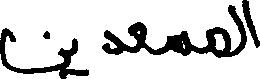X: (0, 23, 67, 78), (209, 2, 228, 62), (230, 0, 244, 61), (169, 26, 189, 60), (246, 0, 259, 52), (130, 17, 144, 57), (104, 25, 120, 59), (71, 33, 76, 78)
